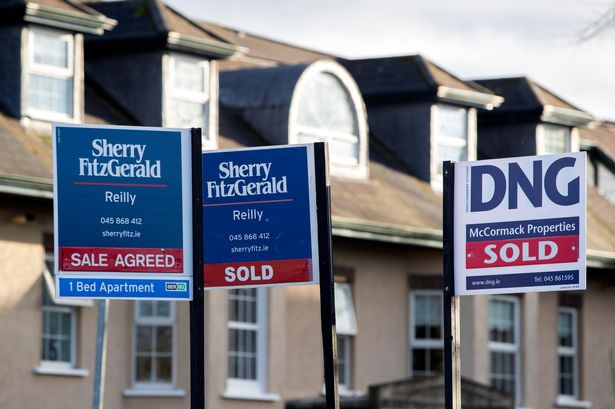property sign: (43, 114, 199, 324), (442, 144, 592, 310), (198, 145, 328, 298)
